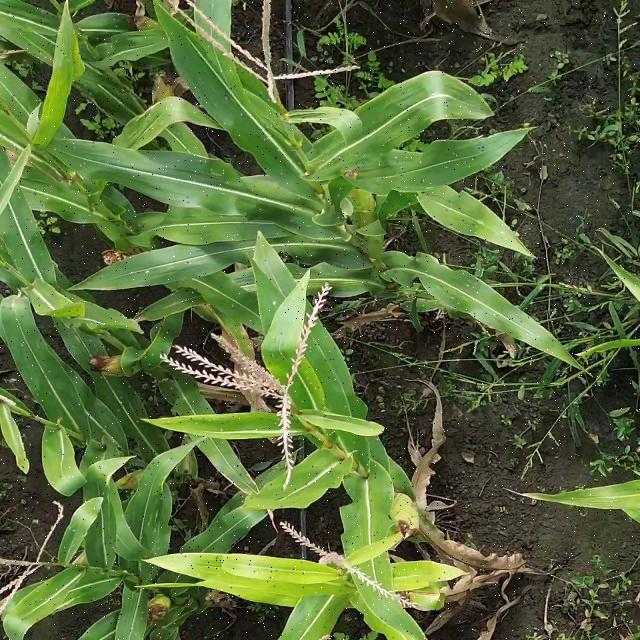gray-leaf-spot: (84, 478, 177, 640), (104, 101, 216, 157), (244, 264, 372, 302)
northern-leaf-blight: (20, 6, 88, 144)
southern-leaf-blight: (429, 269, 503, 323)
